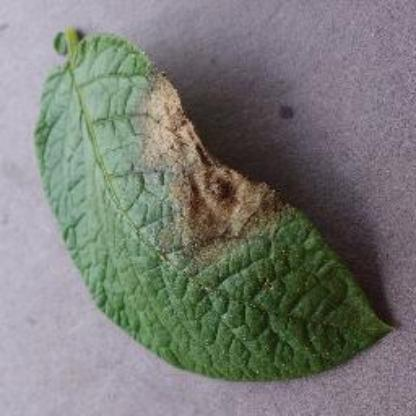Late-Blight: (21, 21, 413, 381)
